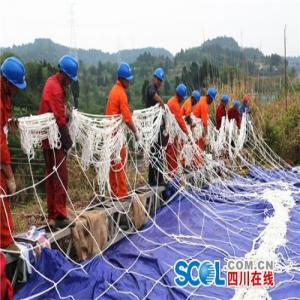blue: (2, 57, 26, 98), (60, 55, 79, 88), (118, 62, 134, 90), (154, 67, 165, 89), (176, 84, 188, 103), (207, 86, 217, 105), (191, 91, 202, 107), (221, 96, 229, 109), (234, 102, 240, 113)
red: (244, 95, 250, 107)
